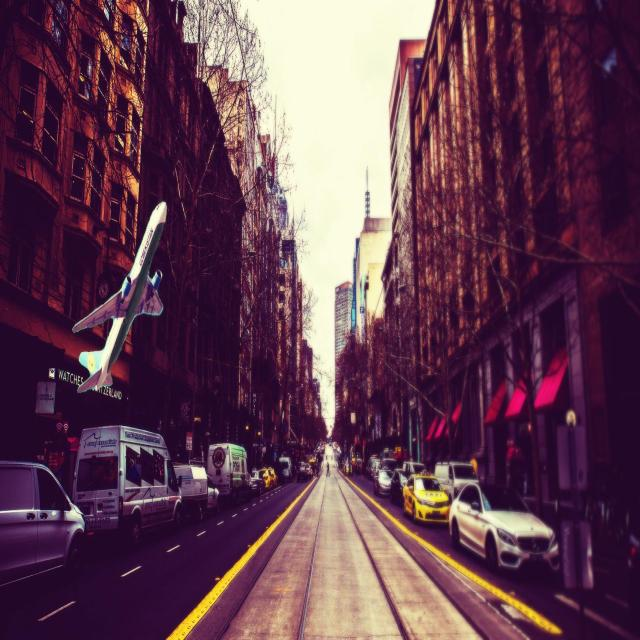airplane: (72, 200, 168, 393)
